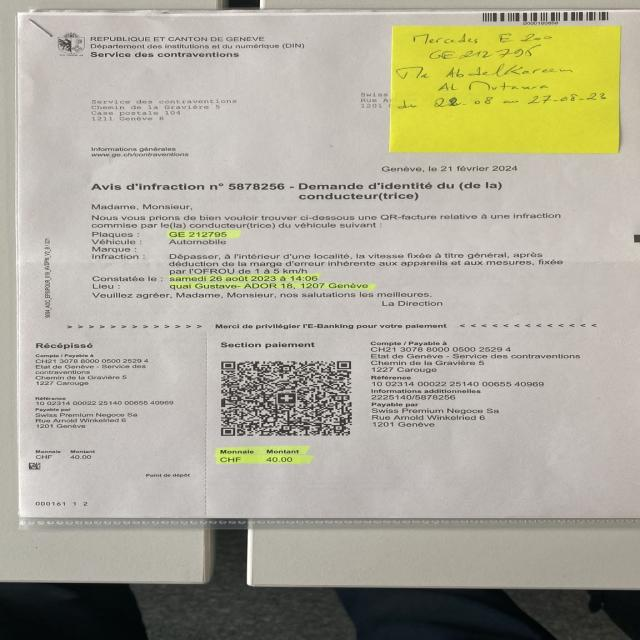paper-document-: (20, 9, 640, 517)
